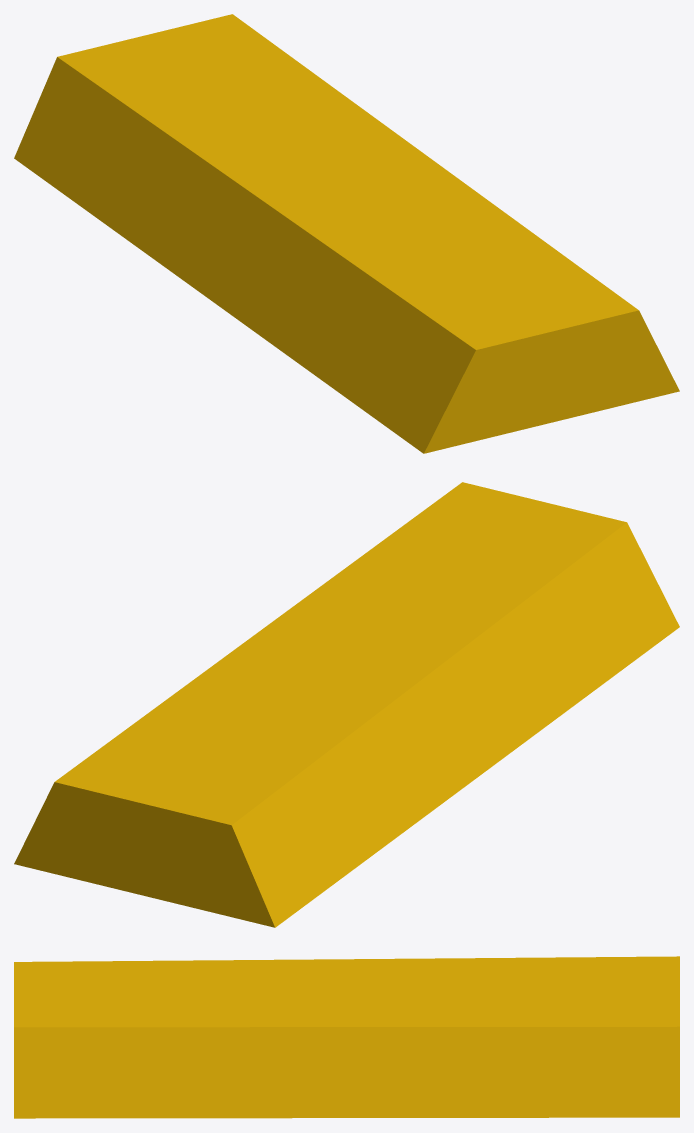
Rendered from gold.fbx.
3 renders of one model, top to bottom at view 1: azimuth 30°, elevation 25°; view 2: azimuth 150°, elevation 25°; view 3: azimuth 270°, elevation 25°, orthographic. The views are drawn at different scales.
Parts seen in each view (by area): view 1: Cube; view 2: Cube; view 3: Cube.
Boxes of the visible parts, <box> form: Cube: <box>14,14,679,453</box>; Cube: <box>14,482,679,927</box>; Cube: <box>14,956,679,1118</box>.
Bounding box in the file's own units: 176 × 58.71 × 474.
